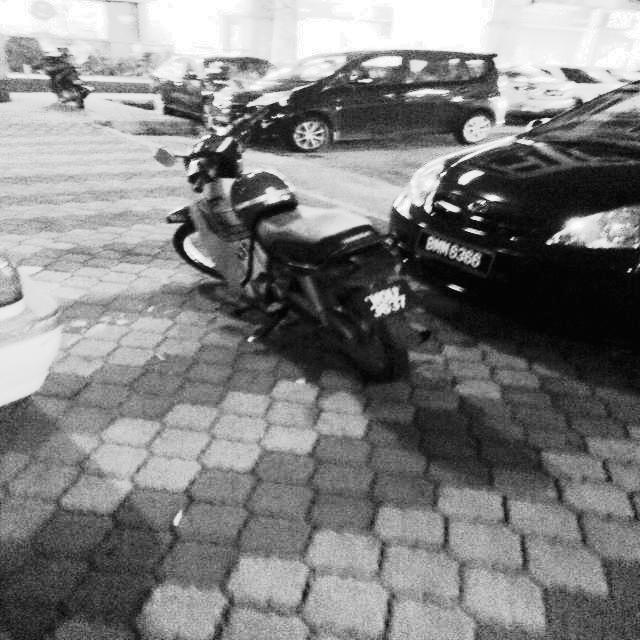Motorcycle: (153, 99, 459, 376), (392, 61, 640, 339), (225, 50, 532, 145), (146, 53, 288, 128), (30, 30, 93, 113)
